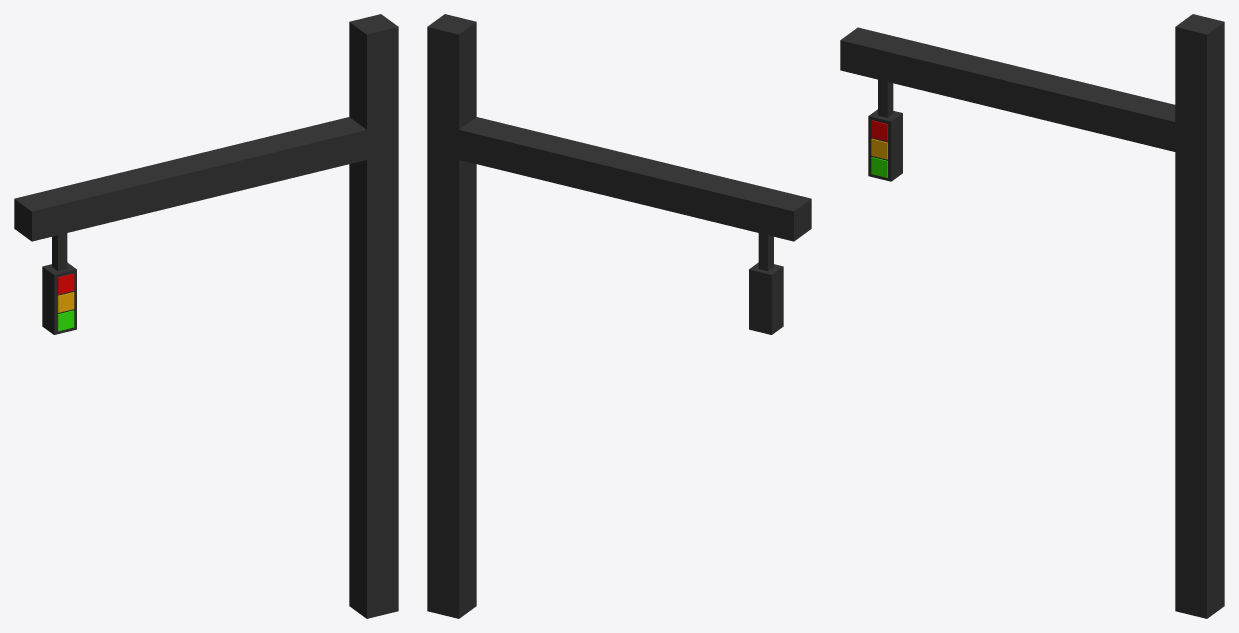
Rendered from TrafficLight_v1.fbx.
3 renders of one model, left to right at view 1: azimuth 30°, elevation 25°; view 2: azimuth 150°, elevation 25°; view 3: azimuth 330°, elevation 25°, orthographic.
Parts seen in each view (by area): view 1: TrafficLight; view 2: TrafficLight; view 3: TrafficLight.
Part boxes in pixels (x1,y1,x2,y2): TrafficLight: (14,14,398,618); TrafficLight: (427,14,811,618); TrafficLight: (840,14,1224,618).
Bounding box in the file's own units: 460 × 700 × 38.4.
